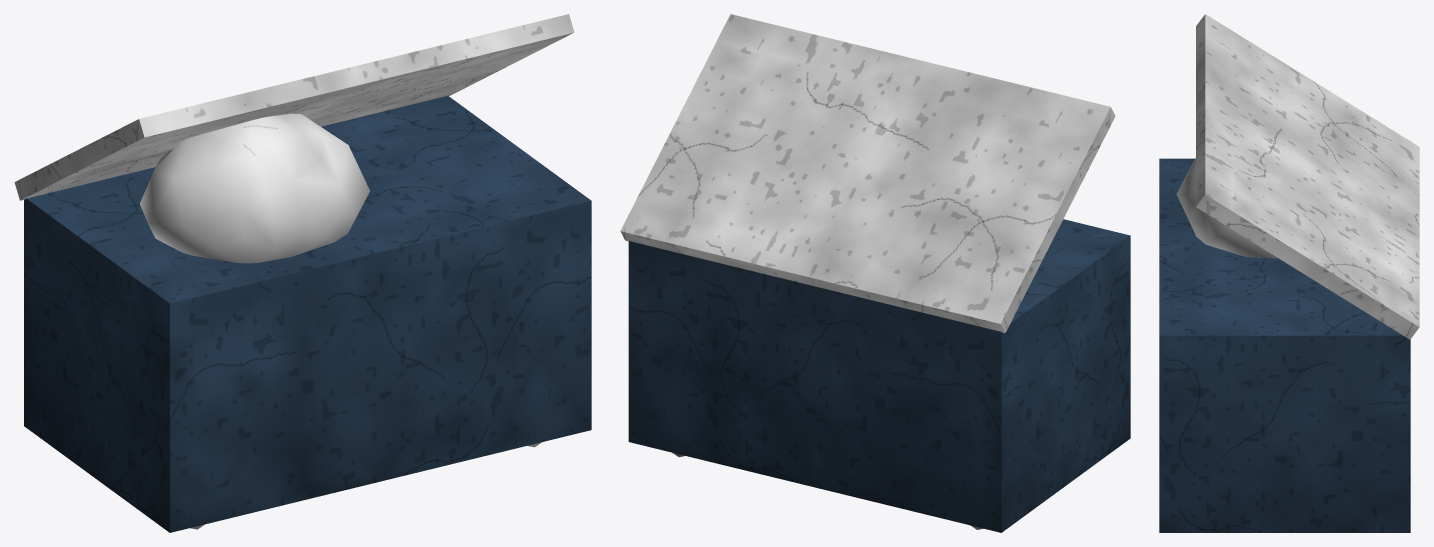
Rendered from dumpster.glb.
3 views of the same model, side by side, from view 1: azimuth 30°, elevation 25°; view 2: azimuth 150°, elevation 25°; view 3: azimuth 270°, elevation 25° (orthographic). The views are drawn at different scales.
Visible parts, largest first — view 1: dumpster; view 2: dumpster; view 3: dumpster.
Boxes of the visible parts, <box> form: dumpster: <box>14,14,591,532</box>; dumpster: <box>620,14,1130,532</box>; dumpster: <box>1159,14,1419,532</box>.
Bounding box in the file's own units: 5.1 × 4.68 × 3.11.
Materials: 4 (4 with a texture image).
